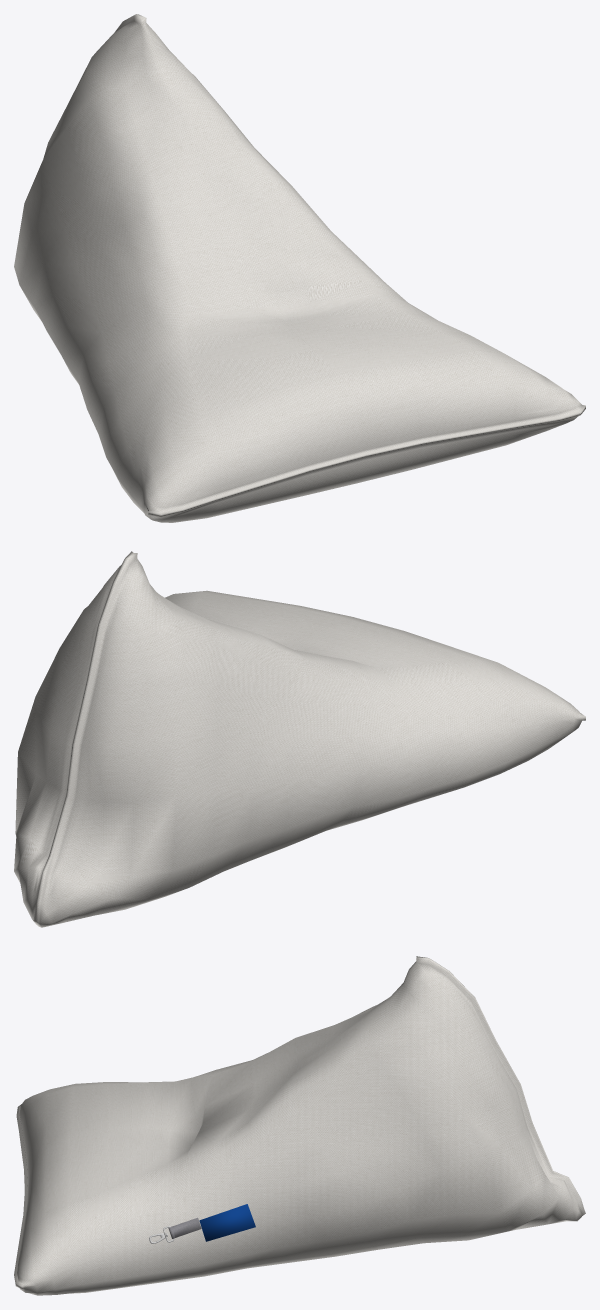
The model's file is design10.obj.
The picture shows the model from 3 angles, top to bottom: view 1: azimuth 30°, elevation 25°; view 2: azimuth 150°, elevation 25°; view 3: azimuth 270°, elevation 25°; orthographic projection. The views are drawn at different scales.
Visible parts, largest first — view 1: Box045; view 2: Box045; view 3: Box045, Plane027.
Part boxes in pixels (left/top/right/bottom): Box045: left=14, top=14, right=585, bottom=522; Box045: left=14, top=551, right=585, bottom=927; Box045: left=14, top=956, right=585, bottom=1295; Plane027: left=199, top=1204, right=255, bottom=1241.
Bounding box in the file's own units: 1213 × 820 × 1587.
